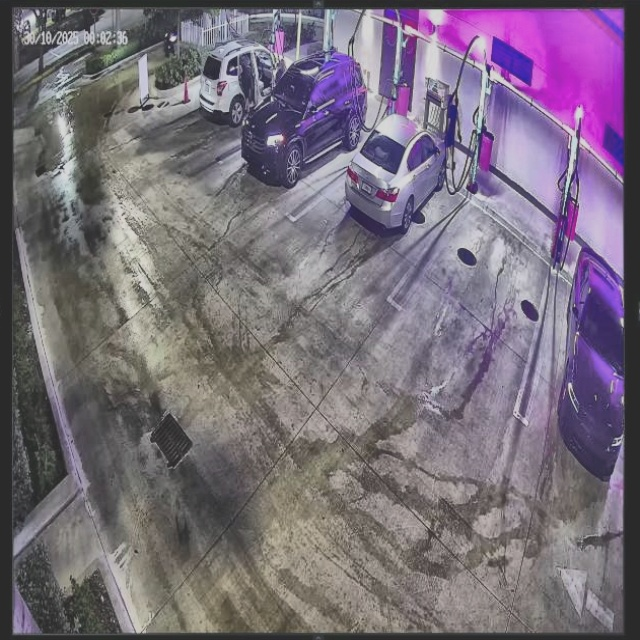Car: (241, 52, 367, 175), (346, 113, 446, 238)
